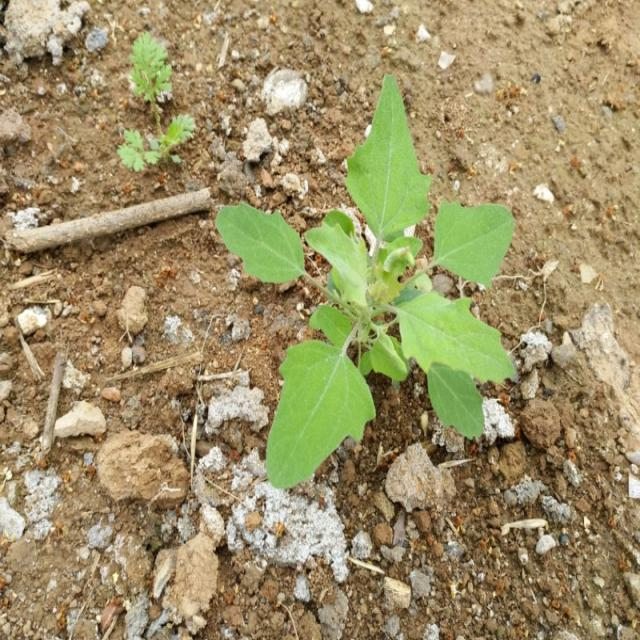ca: (216, 164, 516, 444)
